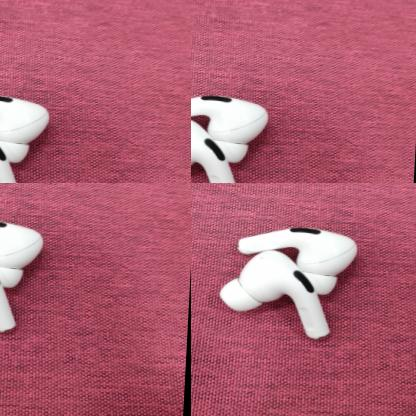Airpods: (191, 94, 343, 182), (206, 242, 345, 332), (209, 210, 366, 280), (0, 184, 70, 263)
